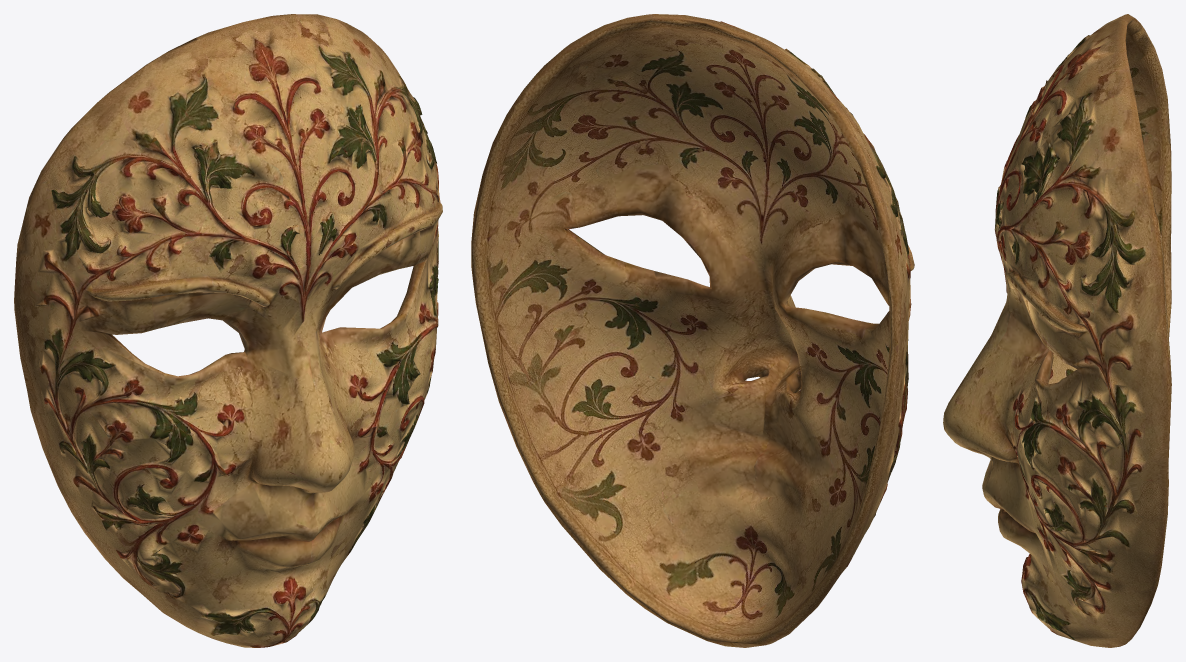
The picture shows the model from 3 angles, left to right: view 1: azimuth 30°, elevation 25°; view 2: azimuth 150°, elevation 25°; view 3: azimuth 270°, elevation 25°; orthographic projection. The views are drawn at different scales.
Size of the model in its own units: 1.36 by 1.9 by 0.6544.
Materials: 1 (1 with a texture image).
